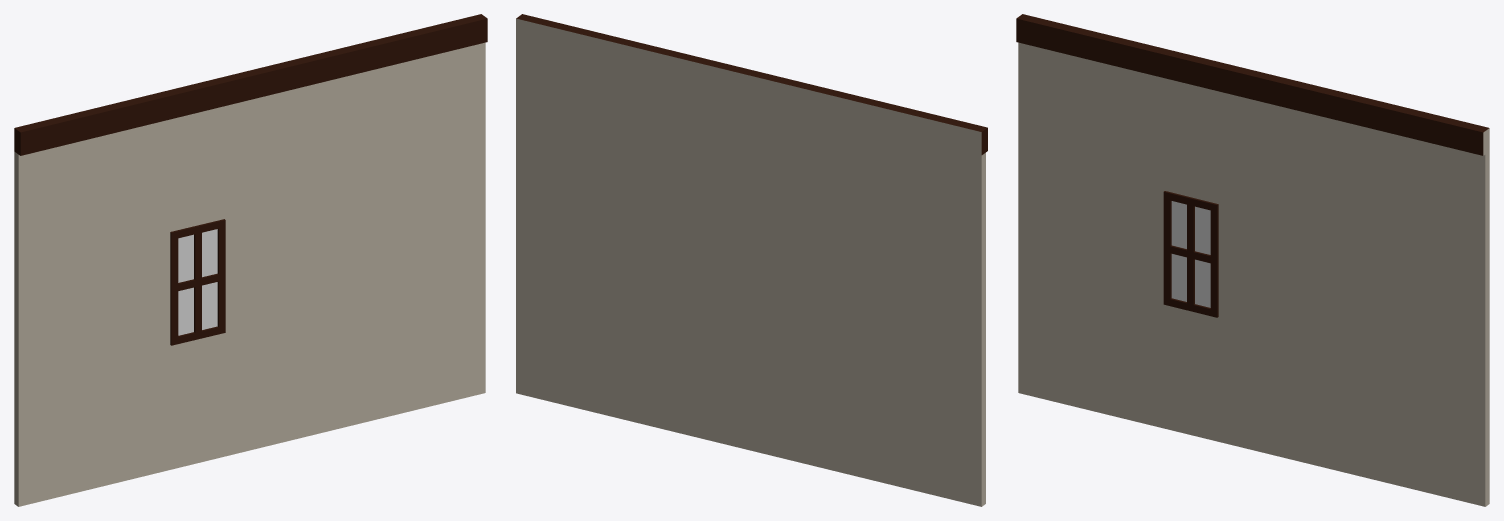
Rendered from LeftWall.fbx.
The picture shows the model from 3 angles, left to right: view 1: azimuth 30°, elevation 25°; view 2: azimuth 150°, elevation 25°; view 3: azimuth 330°, elevation 25°; orthographic projection.
Parts seen in each view (by area): view 1: WallLeft; view 2: WallLeft; view 3: WallLeft.
Part boxes in pixels (bbox=[...]): WallLeft: bbox=[14, 14, 487, 506]; WallLeft: bbox=[516, 14, 987, 506]; WallLeft: bbox=[1016, 14, 1489, 506].
Size of the model in its own units: 6500 by 5000 by 201.
